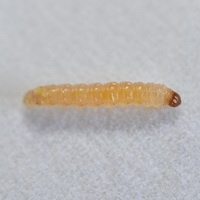insect: (24, 82, 180, 106)
